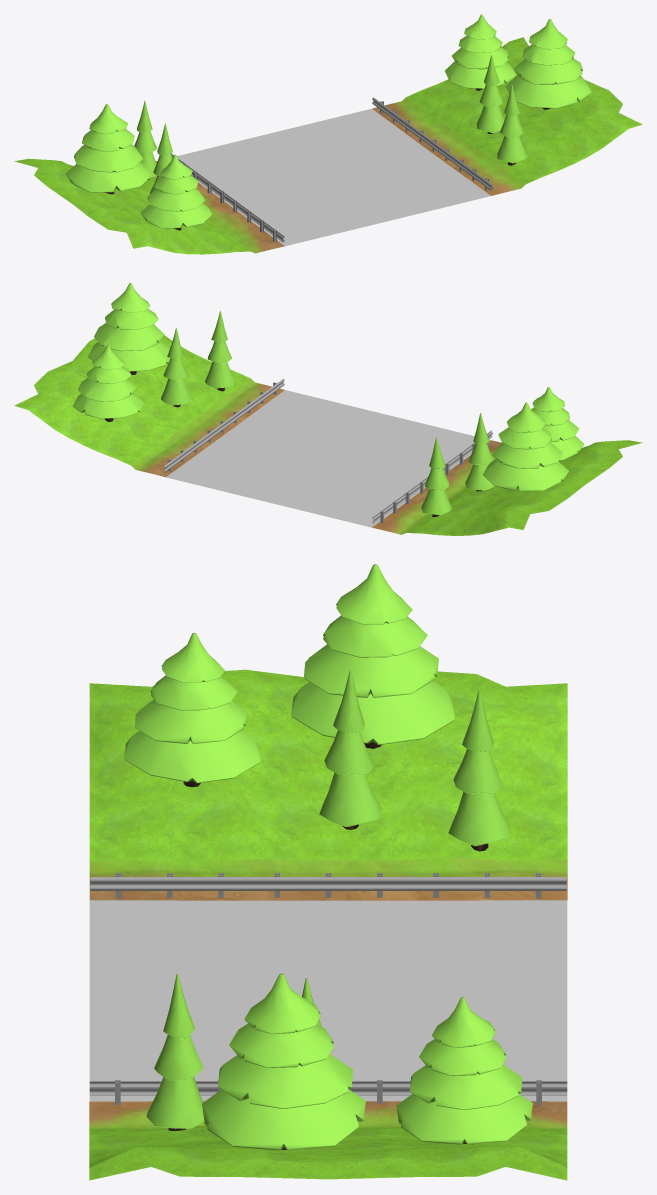
File: Cevre.fbx
The picture shows the model from 3 angles, top to bottom: view 1: azimuth 30°, elevation 25°; view 2: azimuth 150°, elevation 25°; view 3: azimuth 270°, elevation 25°; orthographic projection. The views are drawn at different scales.
Parts seen in each view (by area): view 1: Cevre; view 2: Cevre; view 3: Cevre.
Boxes of the visible parts, x1,y1,x2,y2 form: Cevre: (14,14,642,254); Cevre: (14,283,642,535); Cevre: (89,564,567,1180).
Size of the model in its own units: 15083 by 3220 by 6004.
